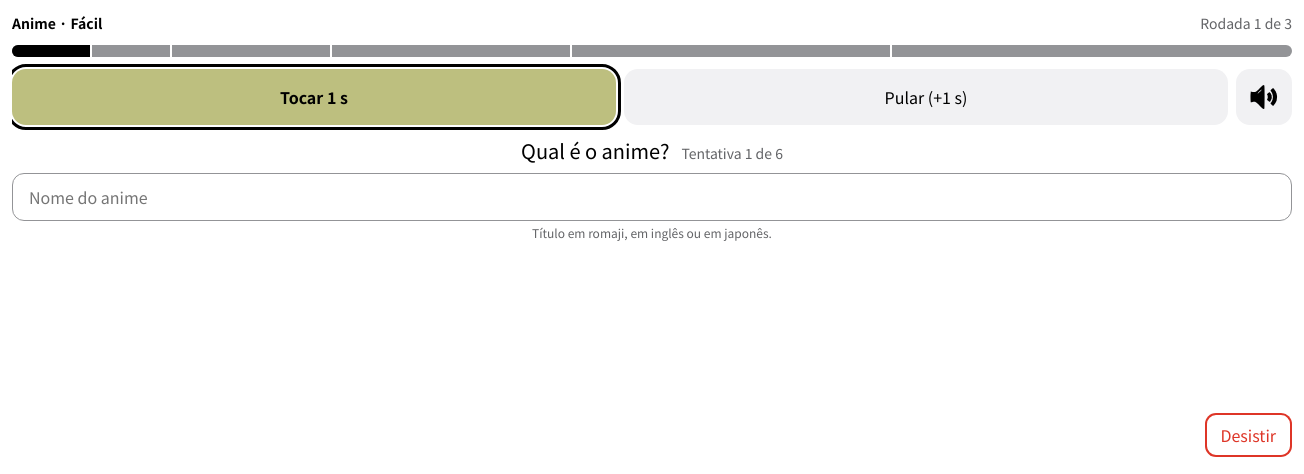
it: Anime: o diário › o acertar o anime: a busca acha o anime pelo sinônimo, mostra o nome dele, e o acerto é a franquia
// Um anime errado primeiro: a tentativa mostra o nome do anime, sem artista.
Type "Anime 5" into the dropdown labelled "Qual é o anime?".
click(652, 197); type("Anime 5")  # box [12,173,1292,221]
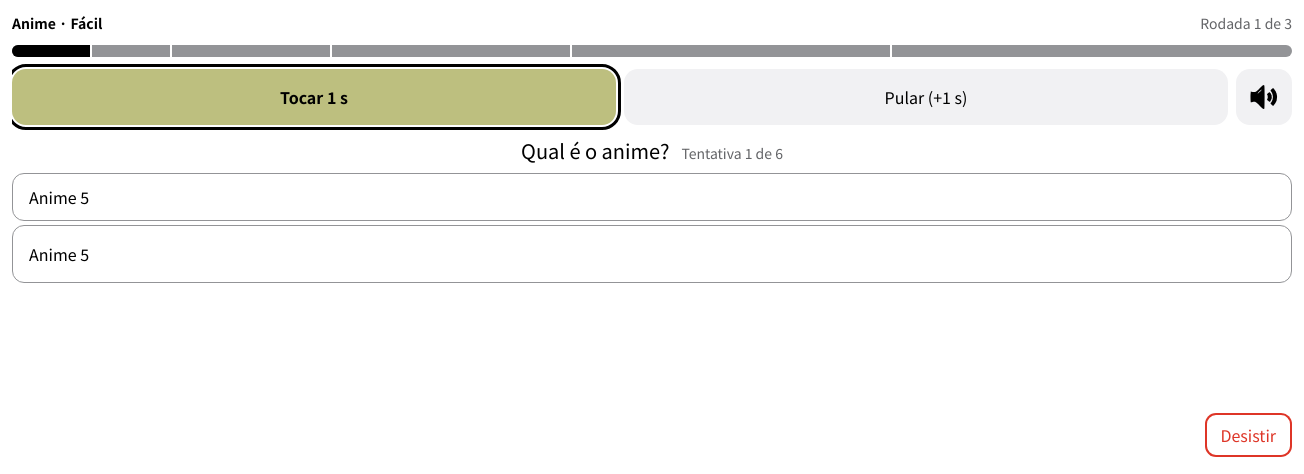
expect the option reads "Anime 5": met
Click the option "Anime 5".
click(59, 254)  # box [29,242,89,266]
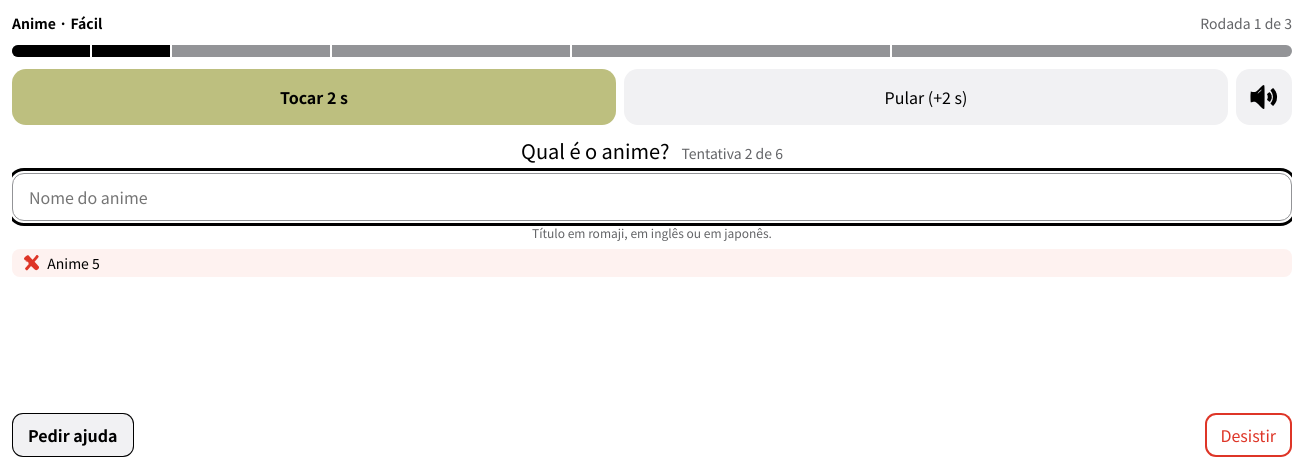
expect the list item with class "wrong" reads "Anime 5": met, box [47,253,100,273]
// A rodada 1 toca a faixa 4, da Hoshizora Kaizoku: o sinônimo em inglês acha.
Type "Starry Pirates" into the dropdown labelled "Qual é o anime?".
click(652, 197); type("Starry Pirates")  # box [12,173,1292,221]
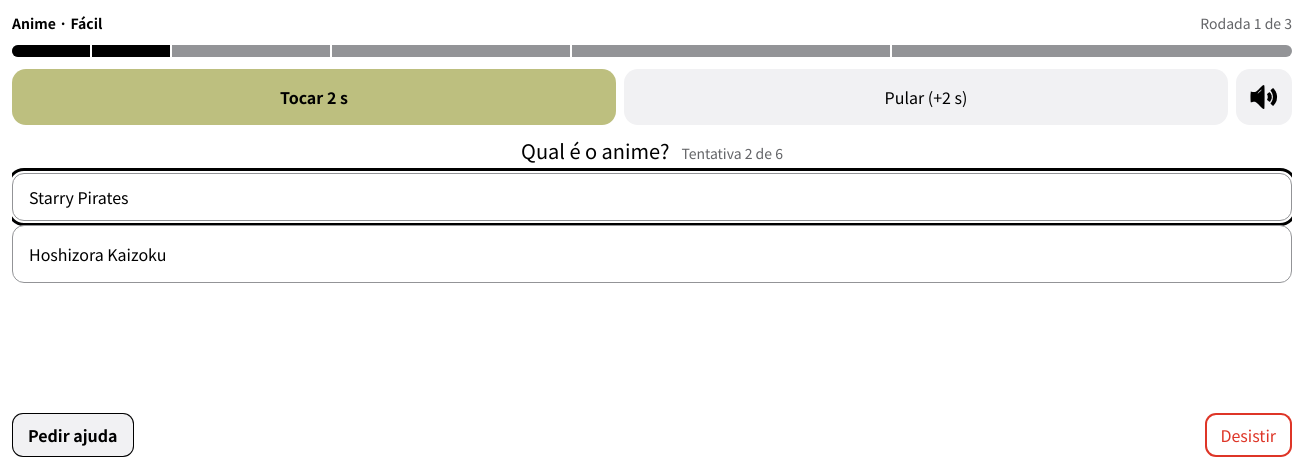
expect the option reads "Hoshizora Kaizoku": met
Click the option "Hoshizora Kaizoku".
click(98, 254)  # box [29,242,166,266]
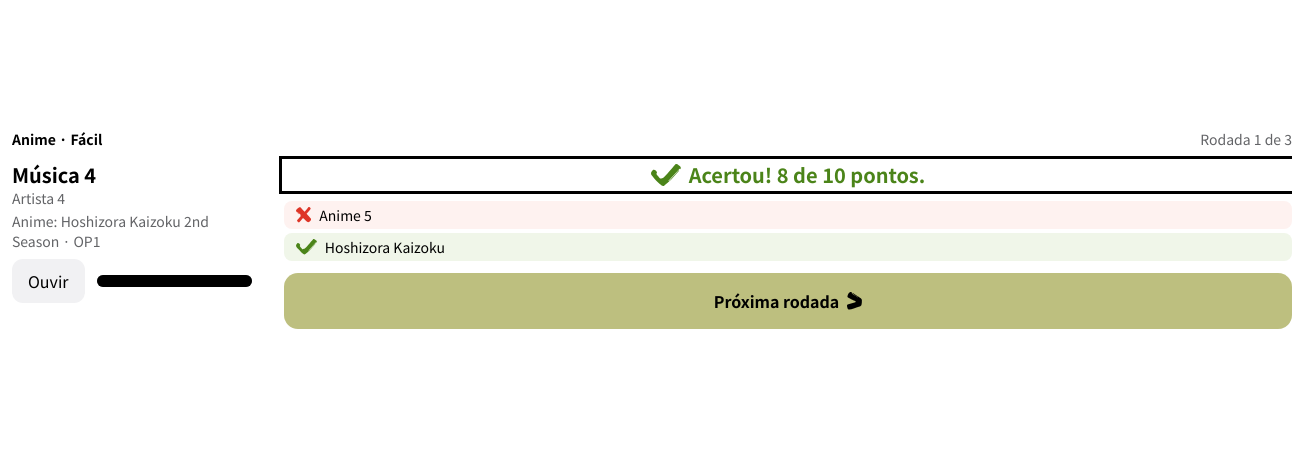
expect the heading "Acertou! 8 de 10 pontos." is shown: met, box [651,160,925,189]
expect the text with class "item-title" reads "Música 4": met, box [12,160,96,189]
expect the element with class "album" reads "Anime: Hoshizora Kaizoku 2nd Season · OP1": met, box [12,211,209,251]
